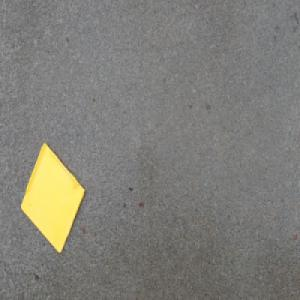PlasticPart: (19, 141, 86, 254)
